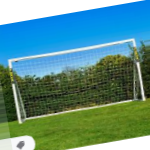goals: (8, 38, 145, 124)
